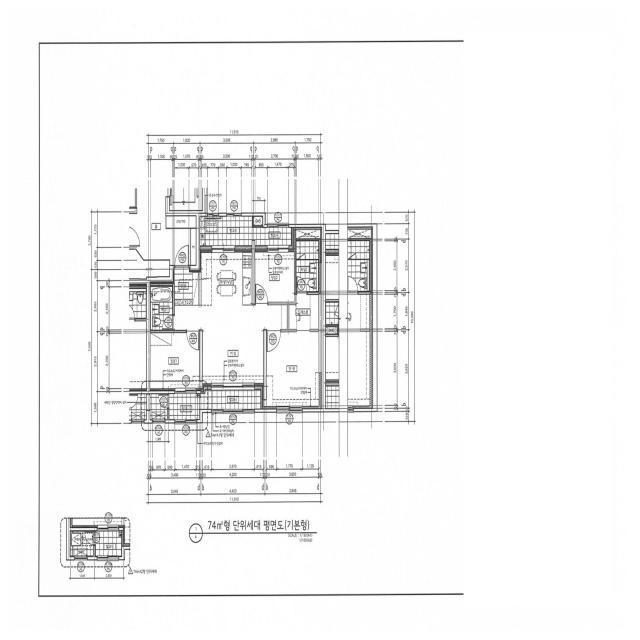space_balconi: (200, 216, 291, 246), (169, 390, 261, 419)
space_bedroom: (267, 332, 322, 409), (150, 333, 200, 391), (255, 250, 294, 302)
space_dressroom: (289, 295, 319, 329)
space_elevator: (170, 188, 202, 210)
space_elevator_hall: (129, 188, 190, 265)
space_front: (173, 267, 199, 306)
space_kitchen: (200, 250, 252, 305)
space_living_room: (175, 305, 287, 388)
space_other: (129, 250, 169, 279), (166, 216, 196, 228), (296, 227, 322, 238), (191, 229, 196, 265), (254, 216, 262, 225)
space_outdoor_room: (150, 394, 167, 420)
space_toilet: (296, 241, 318, 291), (151, 286, 172, 330)
